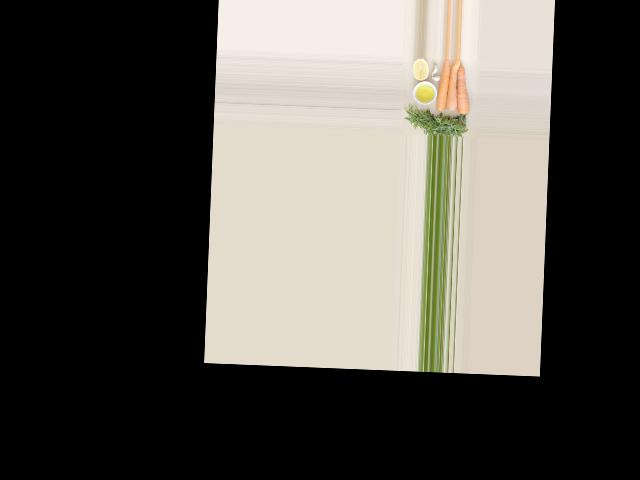carrot: (435, 58, 451, 113)
